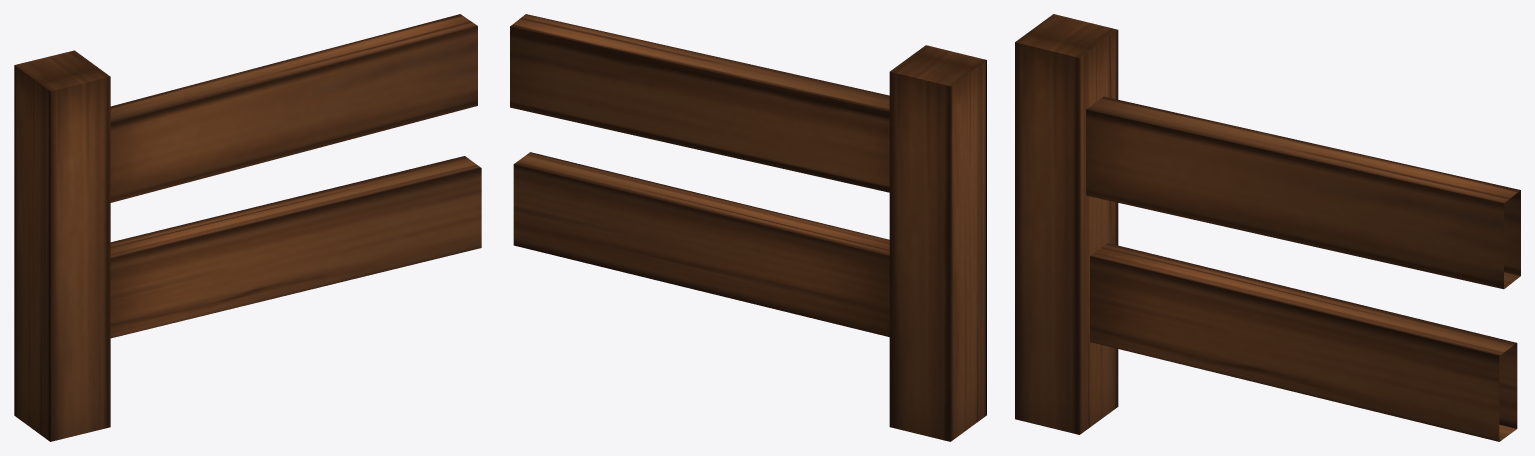
The model's file is WoodenFence1.FBX.
3 views of the same model, side by side, from view 1: azimuth 30°, elevation 25°; view 2: azimuth 150°, elevation 25°; view 3: azimuth 330°, elevation 25° (orthographic). The views are drawn at different scales.
Visible parts, largest first — view 1: Wooden Fence 1; view 2: Wooden Fence 1; view 3: Wooden Fence 1.
Part boxes in pixels (x1,y1,x2,y2): Wooden Fence 1: (14, 14, 481, 441); Wooden Fence 1: (510, 14, 986, 441); Wooden Fence 1: (1015, 14, 1520, 441).
Bounding box in the file's own units: 100 × 76 × 14.1.
